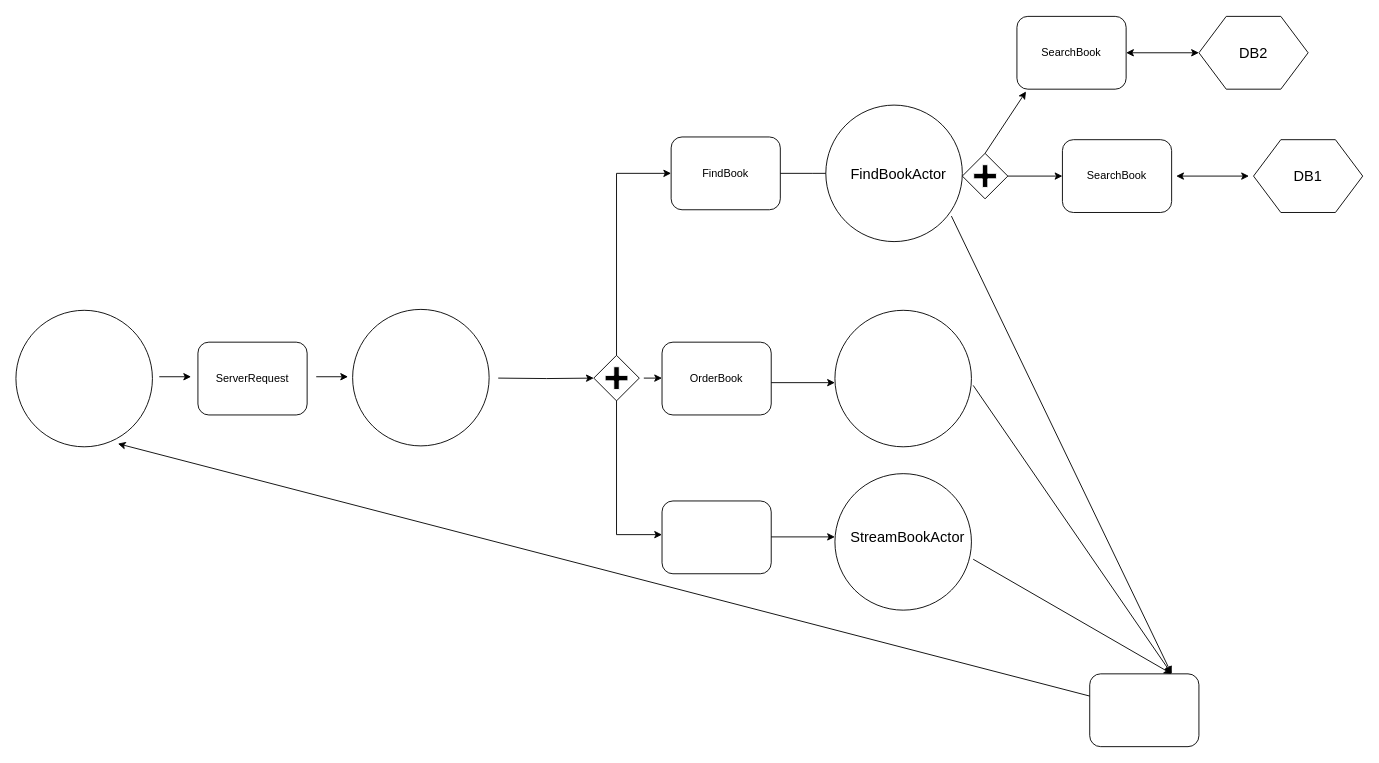
Image size: 1379x763. Some labels were removed from this diagram. Here are the shapes that lost their labels. From the top down, the box of each, then its label:
(15, 309, 152, 447): LibraryClient
(352, 308, 489, 446): LibraryServer
(834, 309, 971, 447): OrderBookActor
(661, 500, 771, 574): StreamBook
(1089, 673, 1199, 747): ServerReply
